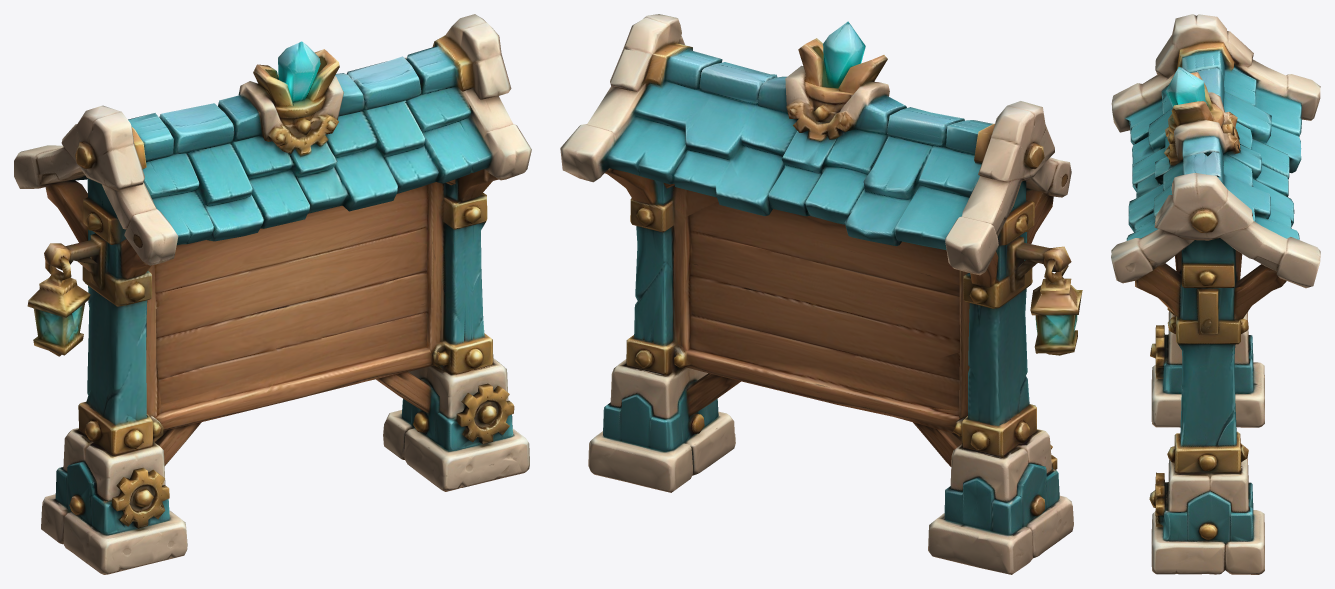
File: X_NoticeBoard_fixed.glb
3 renders of one model, left to right at view 1: azimuth 30°, elevation 25°; view 2: azimuth 150°, elevation 25°; view 3: azimuth 270°, elevation 25°, orthographic. The views are drawn at different scales.
Parts seen in each view (by area): view 1: tripo_node_6c1a4c6a-967b-446e-8d17-fd556492dfdd; view 2: tripo_node_6c1a4c6a-967b-446e-8d17-fd556492dfdd; view 3: tripo_node_6c1a4c6a-967b-446e-8d17-fd556492dfdd.
Part boxes in pixels (bbox=[...]): tripo_node_6c1a4c6a-967b-446e-8d17-fd556492dfdd: bbox=[14, 14, 531, 574]; tripo_node_6c1a4c6a-967b-446e-8d17-fd556492dfdd: bbox=[560, 14, 1082, 574]; tripo_node_6c1a4c6a-967b-446e-8d17-fd556492dfdd: bbox=[1111, 14, 1320, 574].
Bounding box in the file's own units: 0.9783 × 0.9441 × 0.4304.
Materials: 1 (1 with a texture image).
